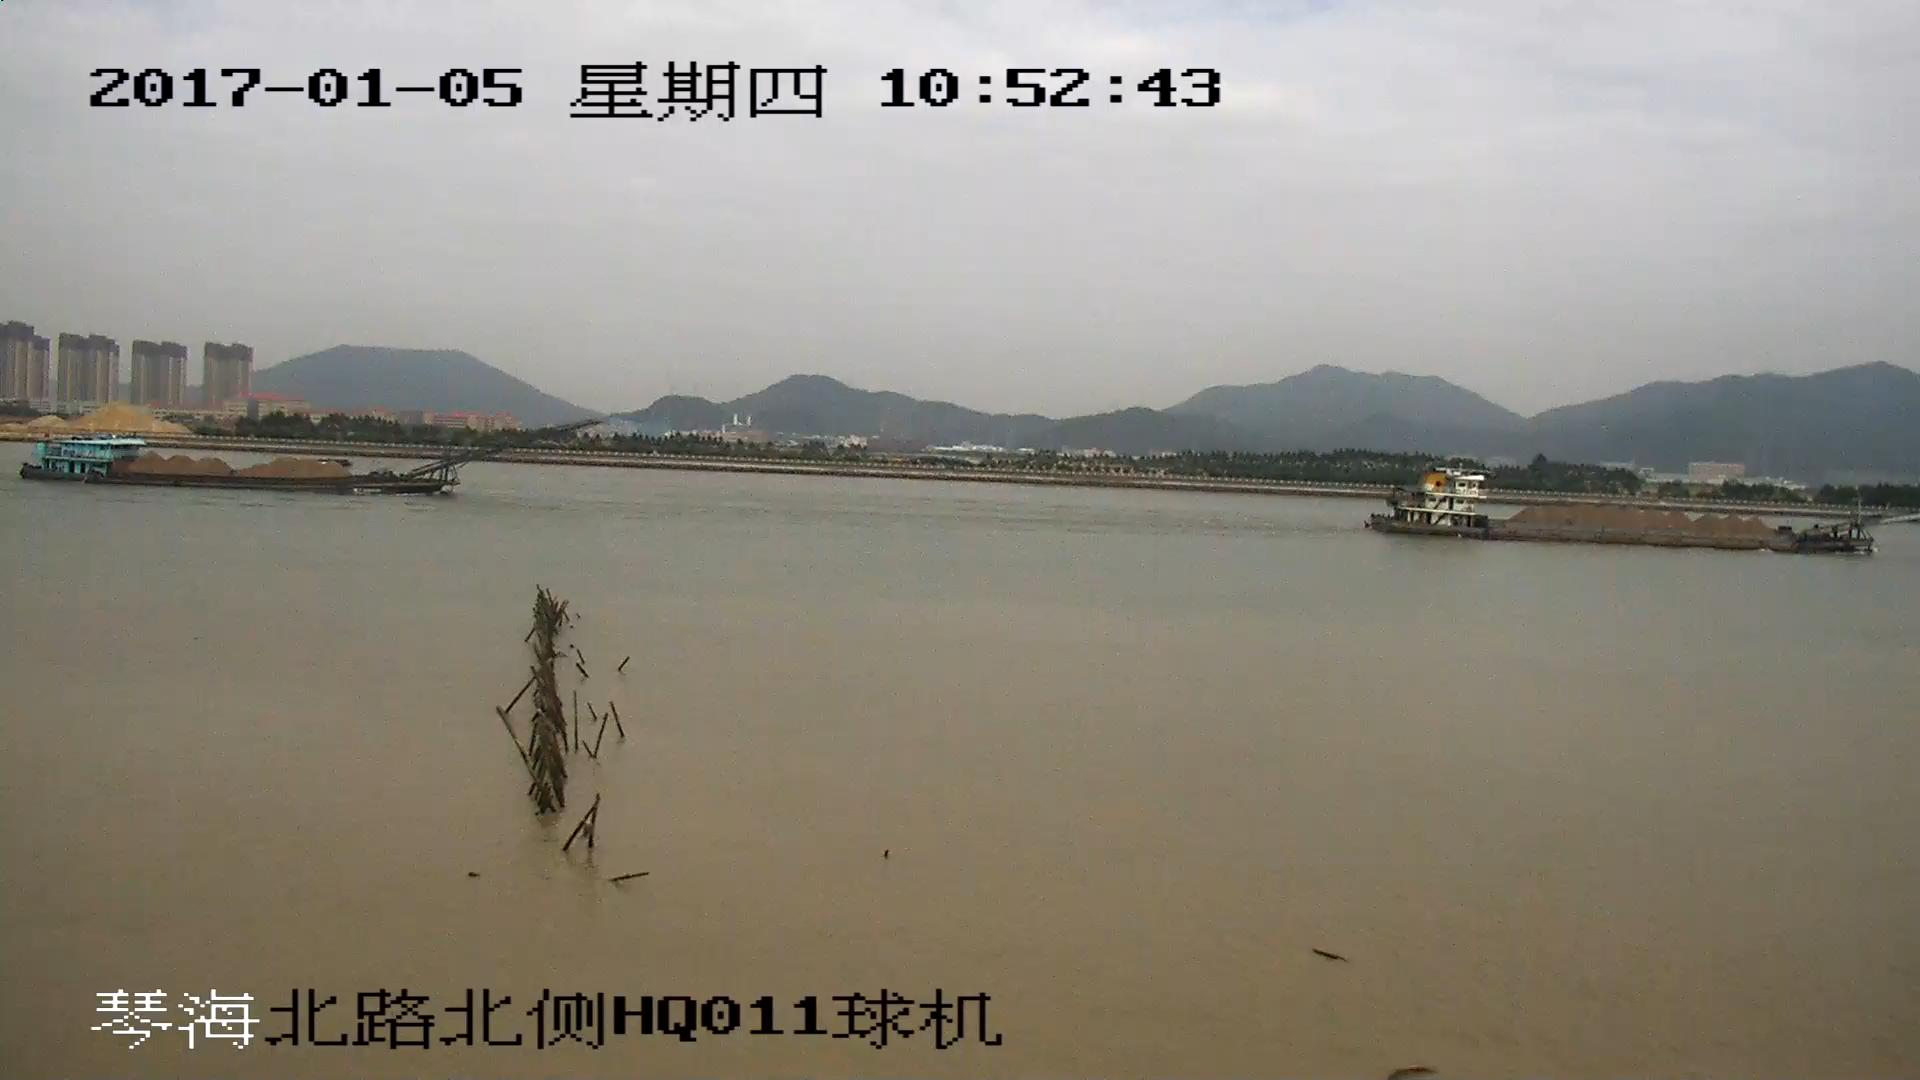ore carrier: (1368, 462, 1920, 551), (22, 422, 596, 494)
